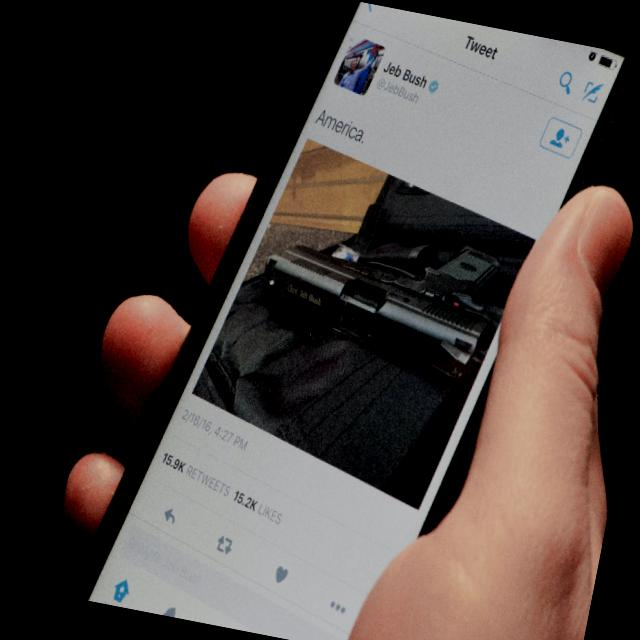handgun: (244, 204, 508, 390)
